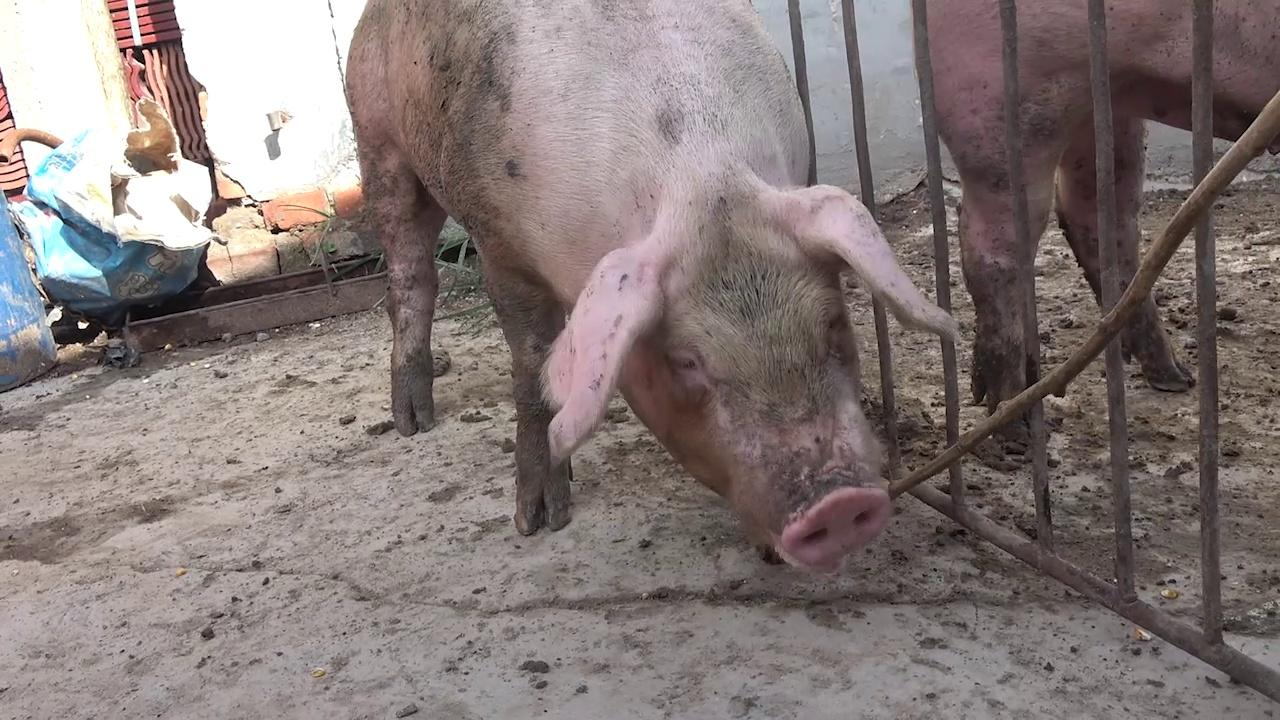Face: (520, 153, 968, 583)
